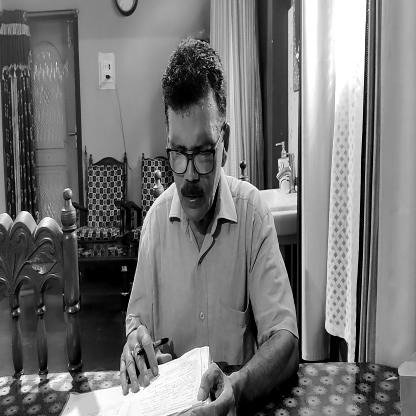Normal: (162, 39, 226, 222)
